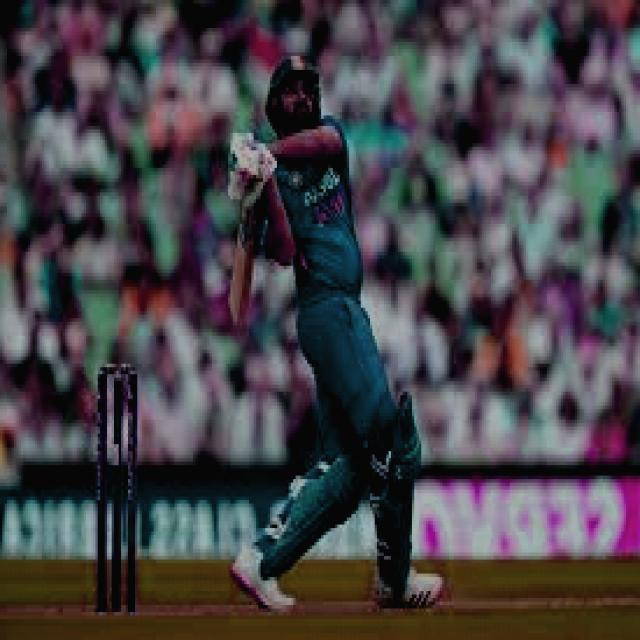toe: (219, 282, 248, 328)
